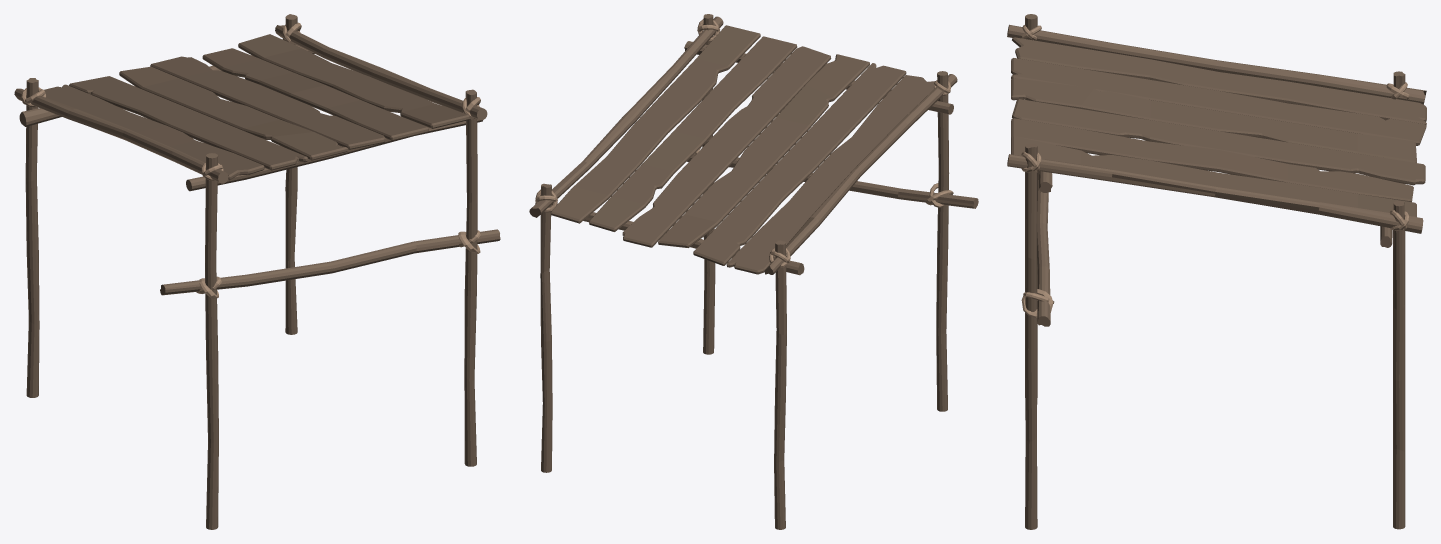
Rendered from Shed.fbx.
3 renders of one model, left to right at view 1: azimuth 30°, elevation 25°; view 2: azimuth 150°, elevation 25°; view 3: azimuth 270°, elevation 25°, orthographic. The views are drawn at different scales.
Parts seen in each view (by area): view 1: Plane.005, Cylinder.005, Torus.003; view 2: Plane.005, Cylinder.005, Torus.003; view 3: Plane.005, Cylinder.005, Torus.003.
Part boxes in pixels (bbox=[...]): Plane.005: bbox=[44, 34, 469, 180]; Cylinder.005: bbox=[14, 14, 500, 529]; Torus.003: bbox=[21, 22, 480, 298]; Plane.005: bbox=[550, 25, 934, 274]; Cylinder.005: bbox=[529, 14, 978, 529]; Torus.003: bbox=[535, 19, 953, 267]; Plane.005: bbox=[1011, 37, 1426, 217]; Cylinder.005: bbox=[1007, 14, 1426, 529]; Torus.003: bbox=[1021, 25, 1409, 317].
Bounding box in the file's own units: 648 × 688 × 685.
